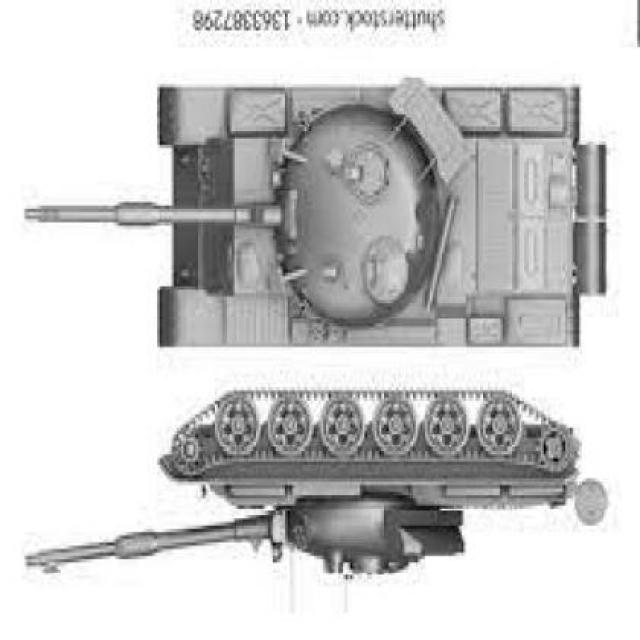tank: (25, 86, 609, 345), (22, 387, 607, 584)
